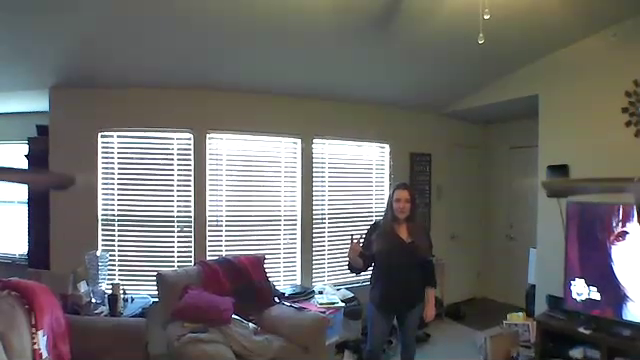peace: (343, 225, 368, 266)
